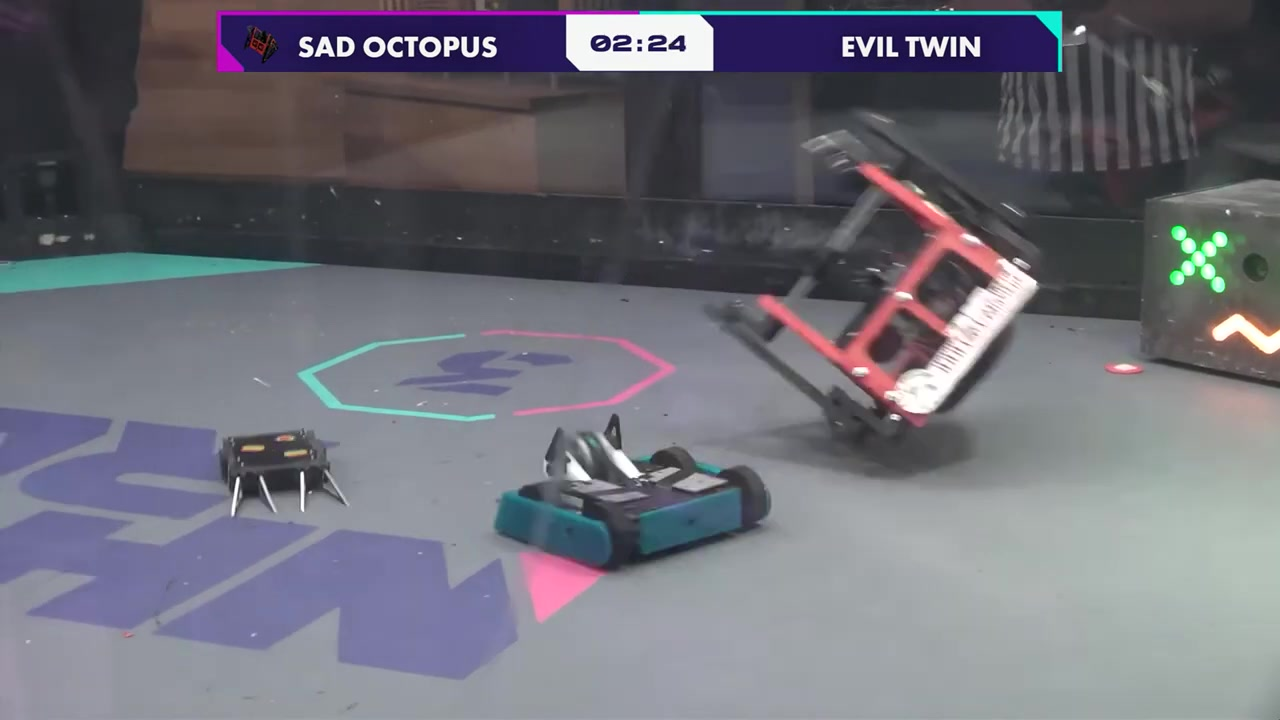combatbot: (709, 108, 1041, 456), (493, 415, 772, 577)
debris: (1104, 360, 1145, 379)
housebot: (1140, 171, 1280, 392)
minibot: (220, 428, 353, 518)
